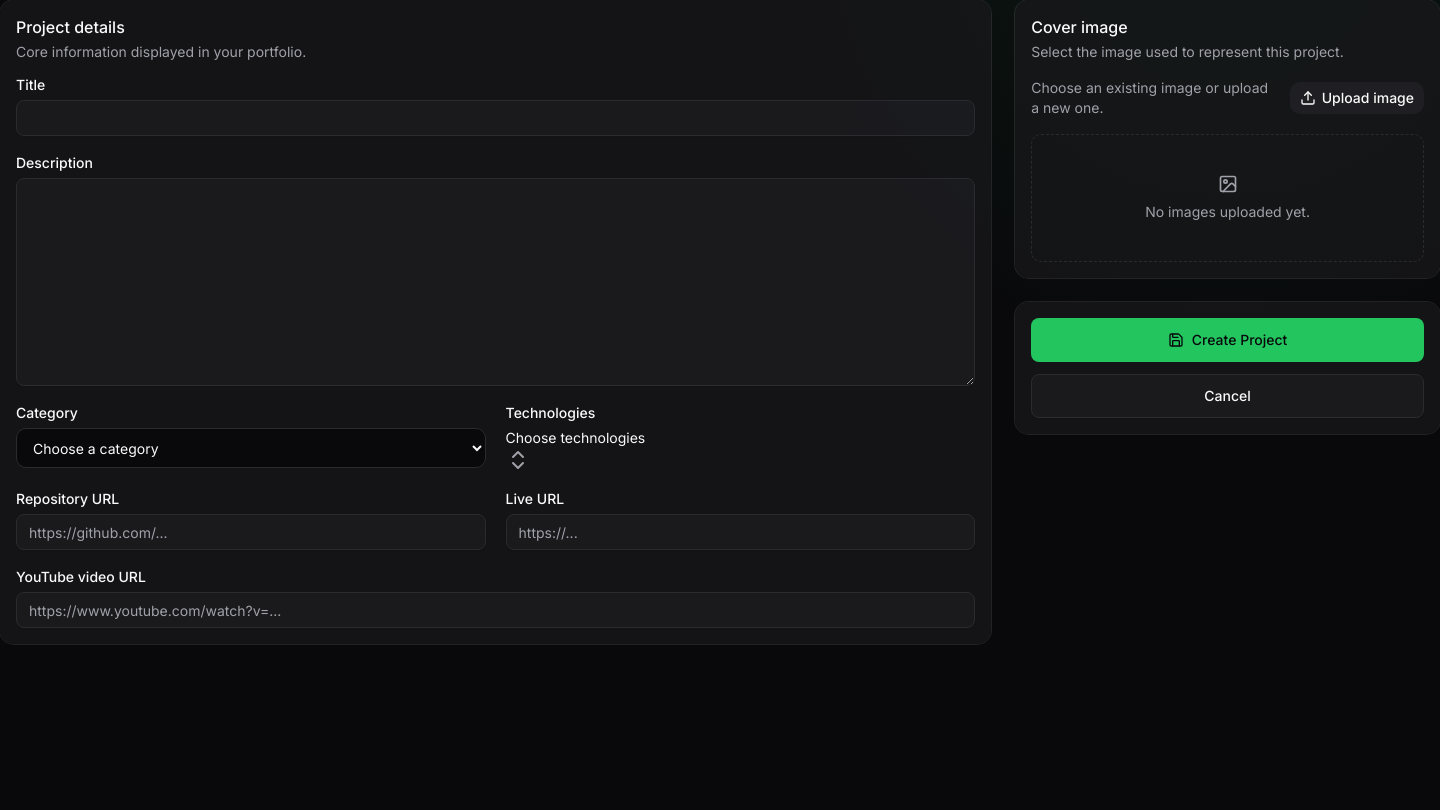
Scenario: ProjectForm › blocks submission when title and description are empty
Step 1. Click the button "Create Project" → (1228,340), box x1=1031 y1=318 x2=1424 y2=362
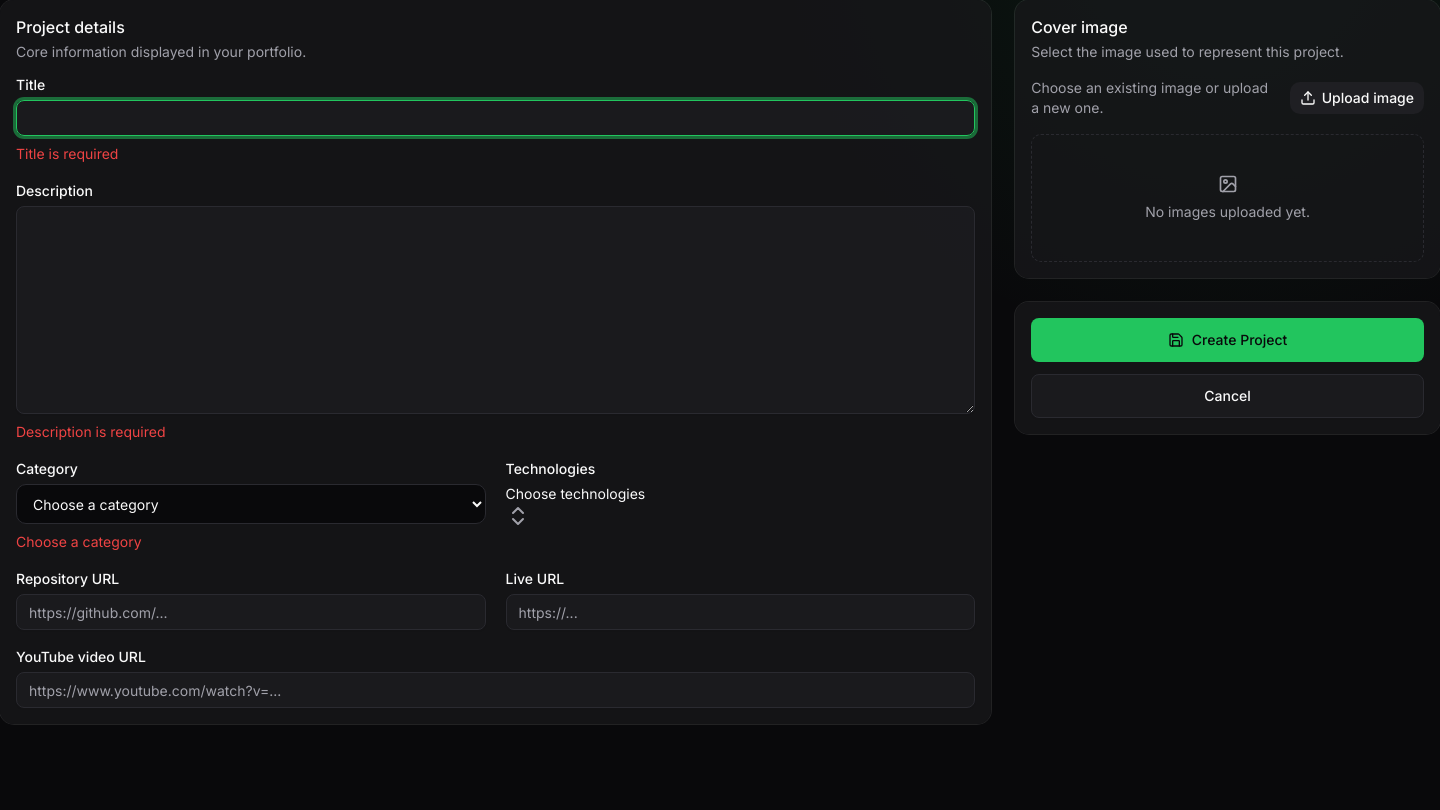
Result: the text "Title is required" is shown at x1=16 y1=145 x2=118 y2=162
Result: the text "Description is required" is shown at x1=16 y1=423 x2=166 y2=440
